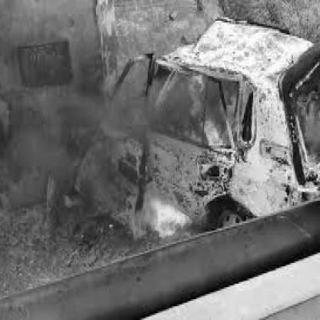Fire: (172, 71, 256, 147), (306, 141, 320, 165)
